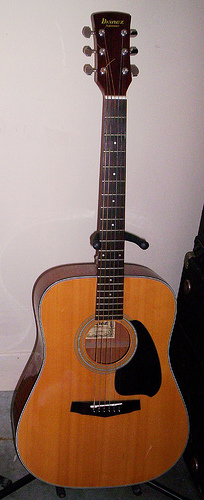guitar: (10, 8, 191, 489)
